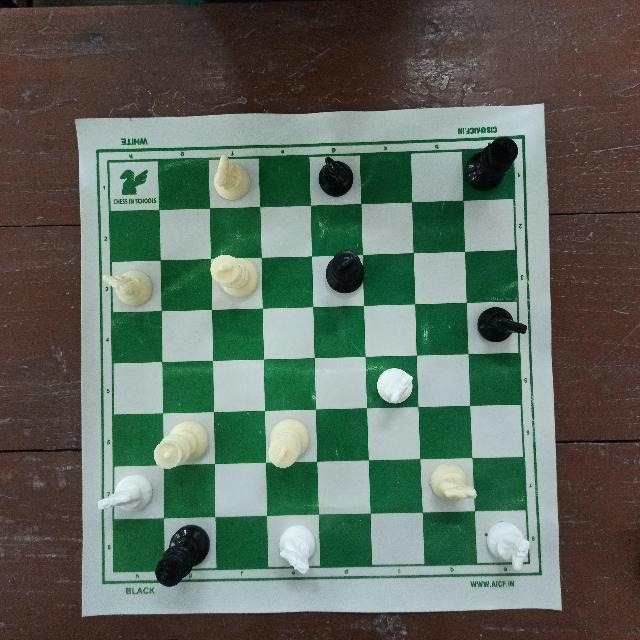black-king: (466, 133, 517, 193), (319, 248, 367, 296)
black-knight: (473, 303, 529, 347), (311, 154, 359, 196)
white-king: (258, 417, 312, 470), (207, 253, 261, 301)
white-knight: (149, 525, 217, 586), (91, 473, 152, 519), (101, 262, 155, 312), (482, 520, 532, 573), (205, 153, 253, 205), (272, 527, 322, 575), (429, 461, 478, 507), (370, 367, 420, 409)
white-queen: (149, 421, 213, 469)
